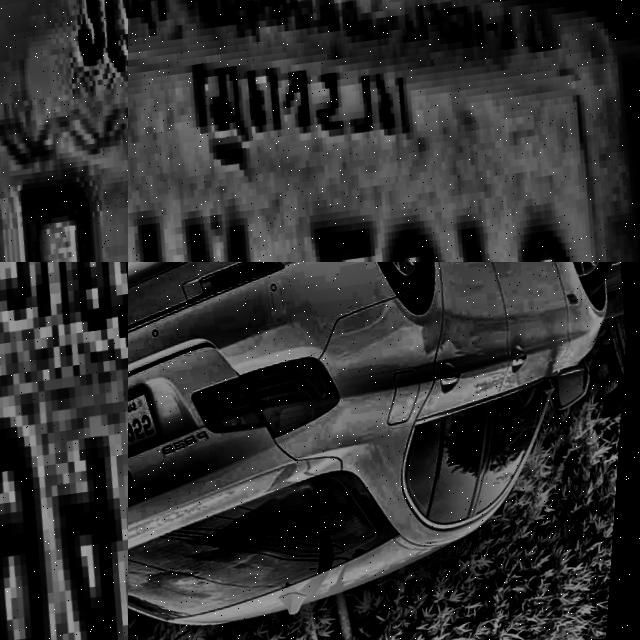license-plate: (128, 0, 640, 262), (0, 262, 128, 640), (0, 0, 128, 262), (128, 378, 177, 480)
